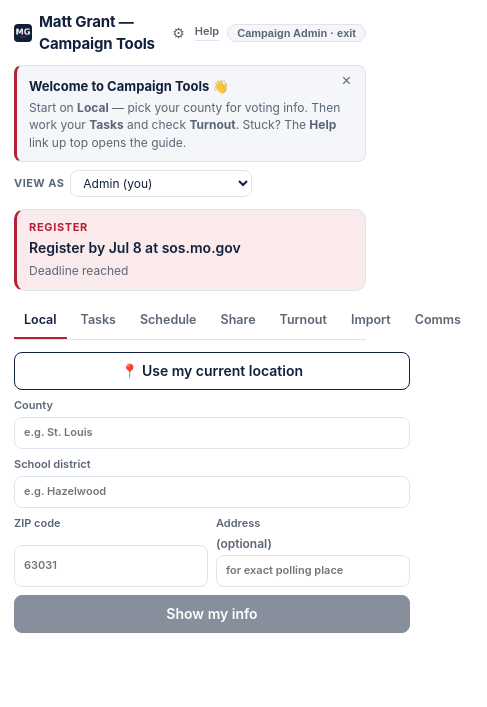
it: App "View as" switcher (admin-only) › previews a role: reshapes tabs, shows a banner, then restores
The image size is (487, 707).
Expected: the tab "Local" is shown, x1=14 y1=303 x2=66 y2=339
Expected: the tab "Import" is shown, x1=341 y1=303 x2=401 y2=339
Preview as Registration Clerk → admin-only tabs disappear, banner appears.
Select "Registration Clerk" in the dropdown labelled "View as": [161, 184] box x1=70 y1=170 x2=252 y2=197
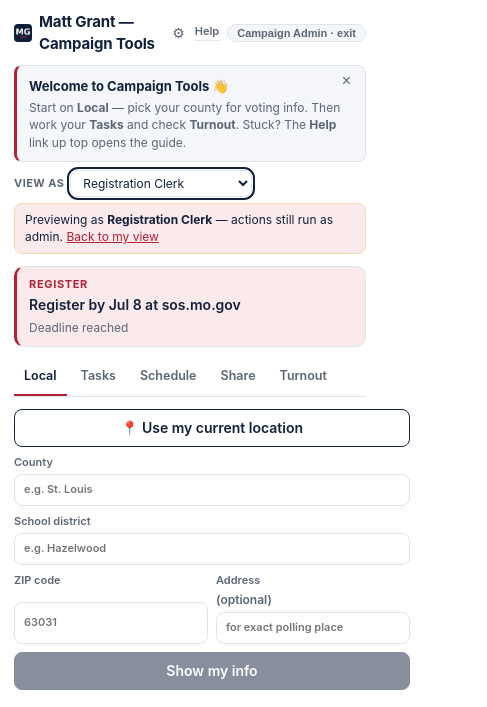
Expected: the text "Previewing as" is shown, x1=25 y1=212 x2=107 y2=227
Expected: the tab "Import" is gone
Expected: the tab "Comms" is gone
Back to my view → full tab set returns, banner gone.
Click the button "Back to my view": [113, 237] box x1=66 y1=228 x2=159 y2=246
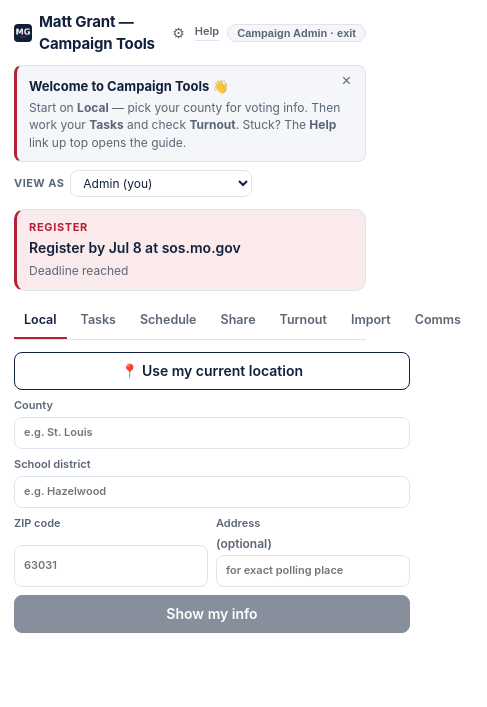
Expected: the tab "Comms" is shown, x1=405 y1=303 x2=471 y2=339
Expected: the tab "Import" is shown, x1=341 y1=303 x2=401 y2=339
Expected: the text "Previewing as" is gone
